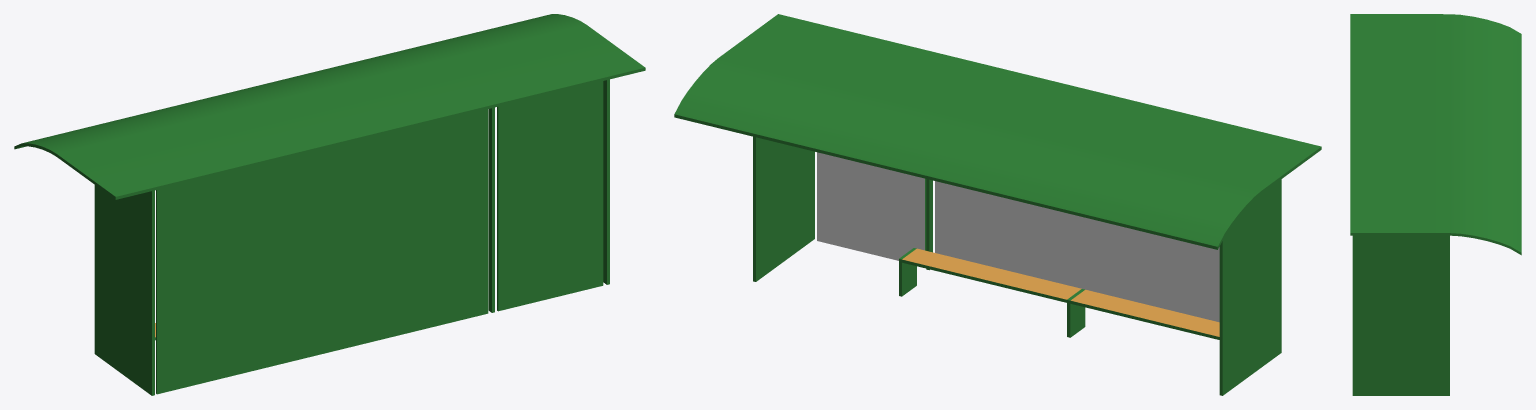
Rendered from bus stop.fbx.
3 views of the same model, side by side, from view 1: azimuth 30°, elevation 25°; view 2: azimuth 150°, elevation 25°; view 3: azimuth 270°, elevation 25° (orthographic). The views are drawn at different scales.
Visible parts, largest first — view 1: Cube; view 2: Cube; view 3: Cube.
Boxes of the visible parts, x1,y1,x2,y2 form: Cube: [14, 14, 645, 395]; Cube: [674, 14, 1321, 395]; Cube: [1350, 14, 1521, 395].
Bounding box in the file's own units: 538 × 203 × 178.
